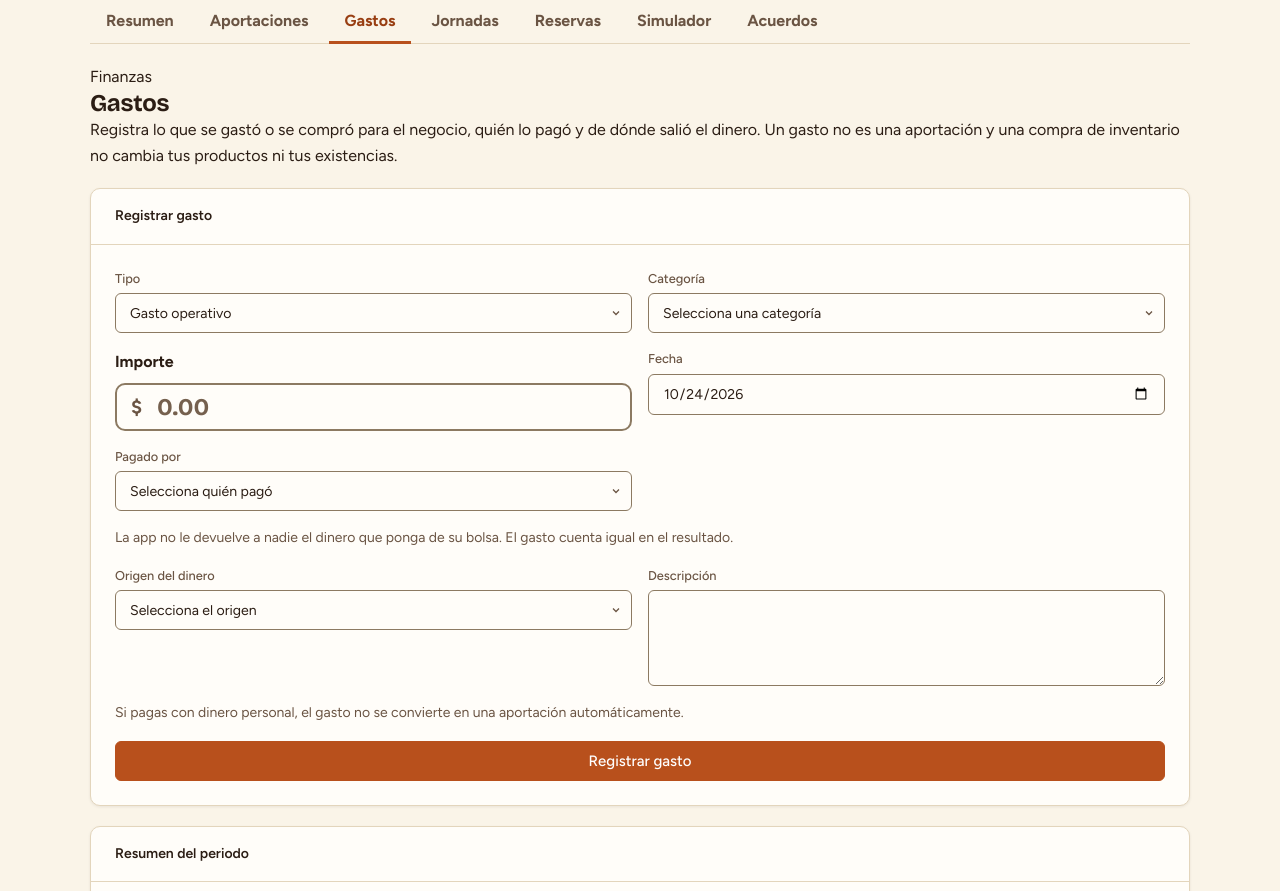
Test: expenses screen › does not save a missing category and says what is wrong
Select "Transporte" in the dropdown with id "expense-category" at (906,313), box [648,293,1165,333]
Type "450.50" into the field with id "expense-amount" at (374,407), box [115,383,632,431]
Type "2026-10-01" into the date field with id "expense-date" at (906,394), box [648,374,1165,415]
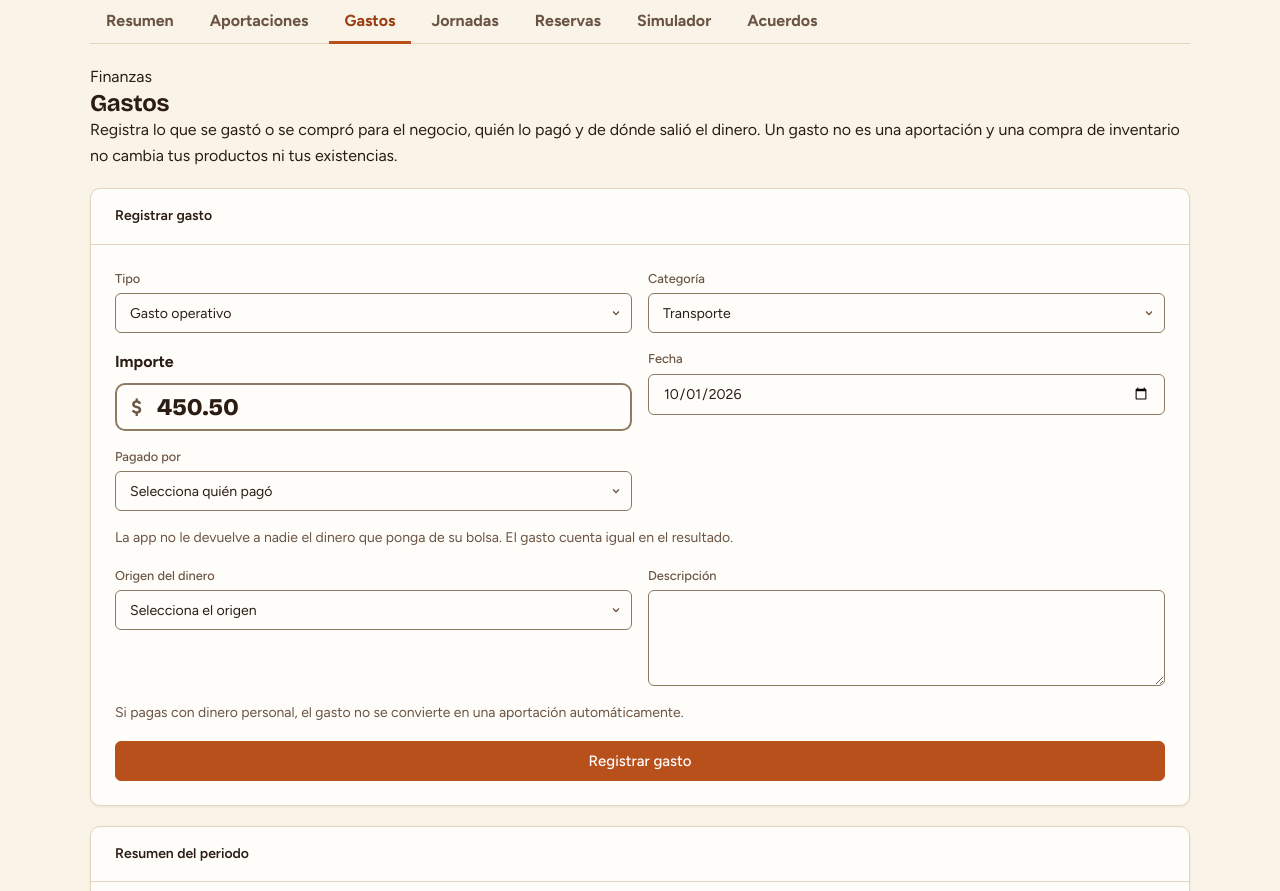
Select "Ana" in the dropdown with id "expense-payer" at (374,491), box [115,471,632,511]
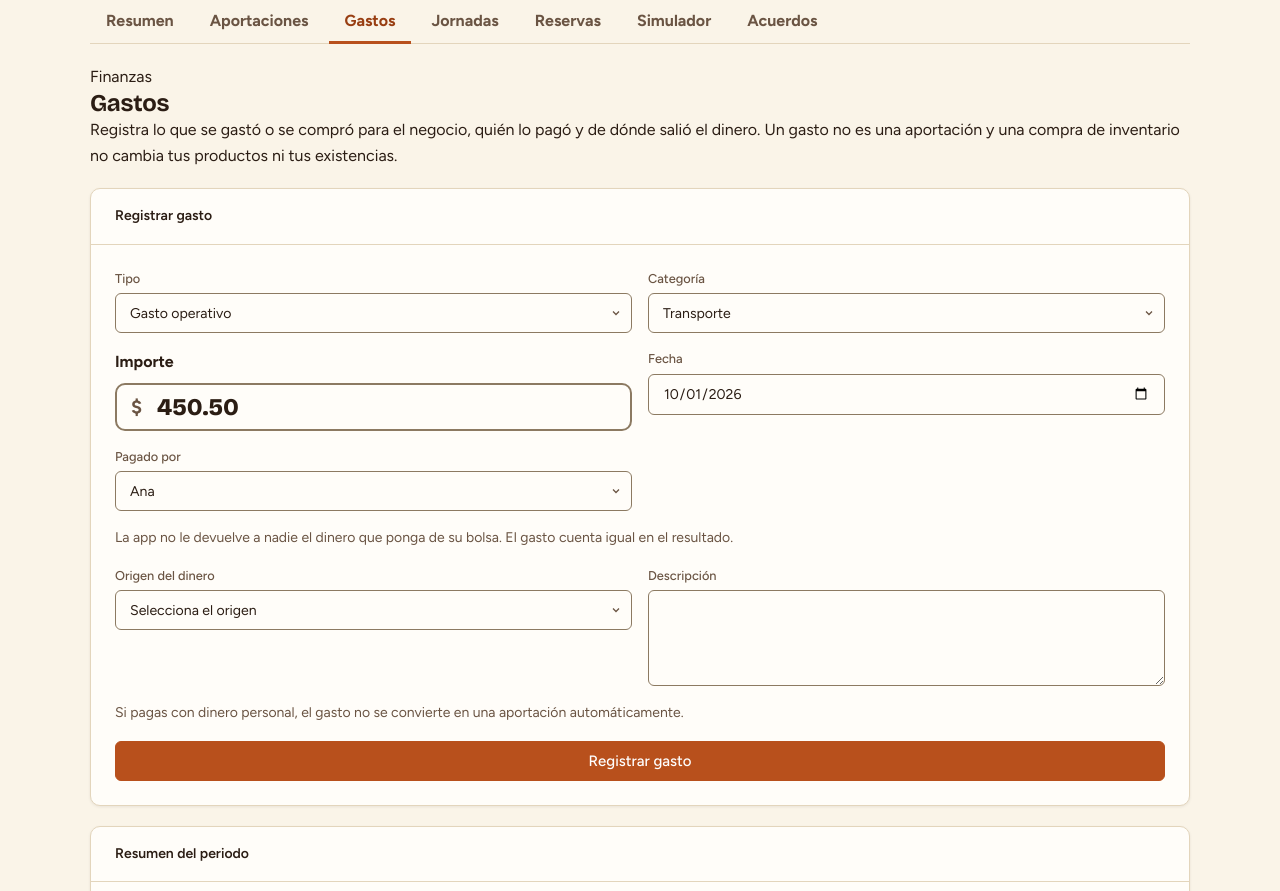
Select "Personal" in the dropdown with id "expense-funds" at (374,610), box [115,590,632,630]
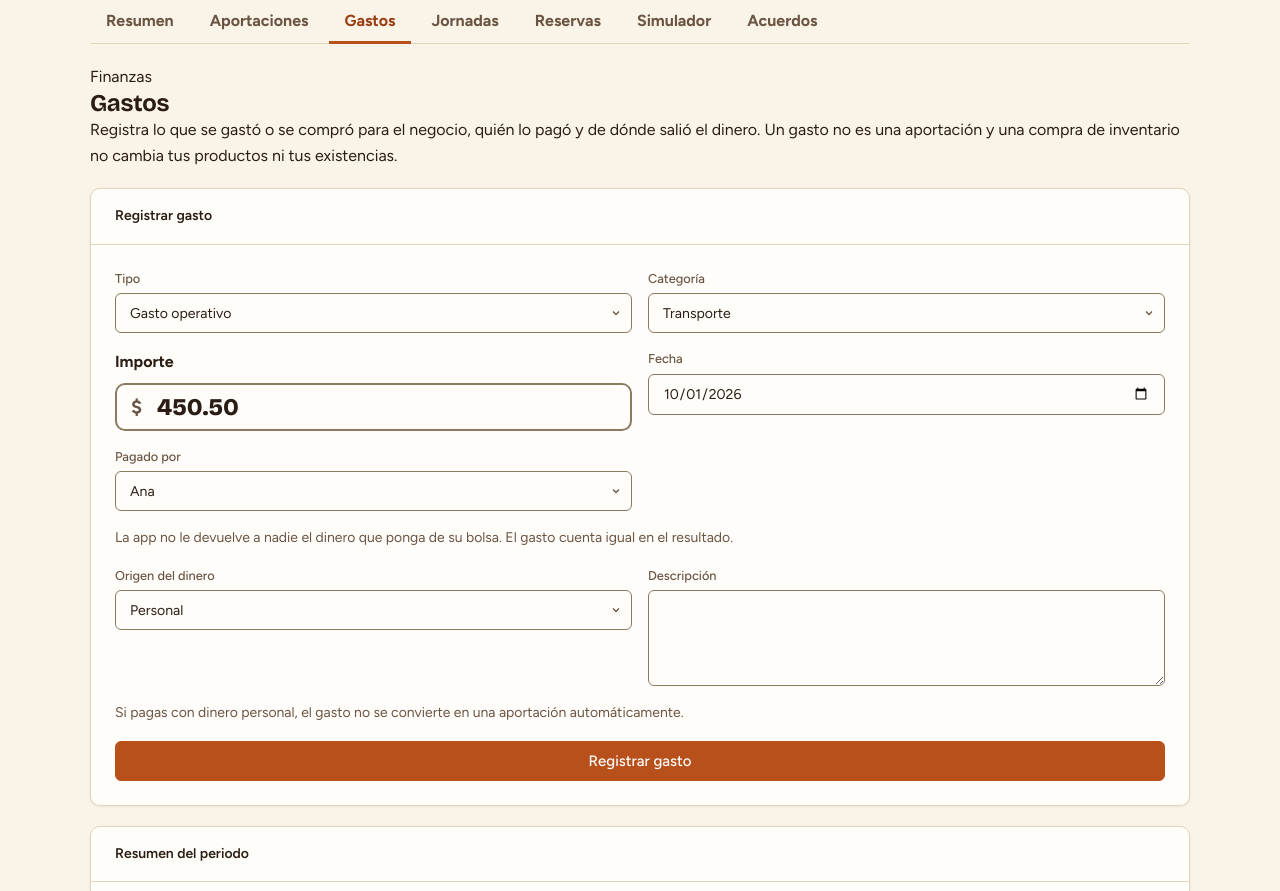
Type "  Flete del bazar  " into the text box with id "expense-description" at (906,638), box [648,590,1165,686]
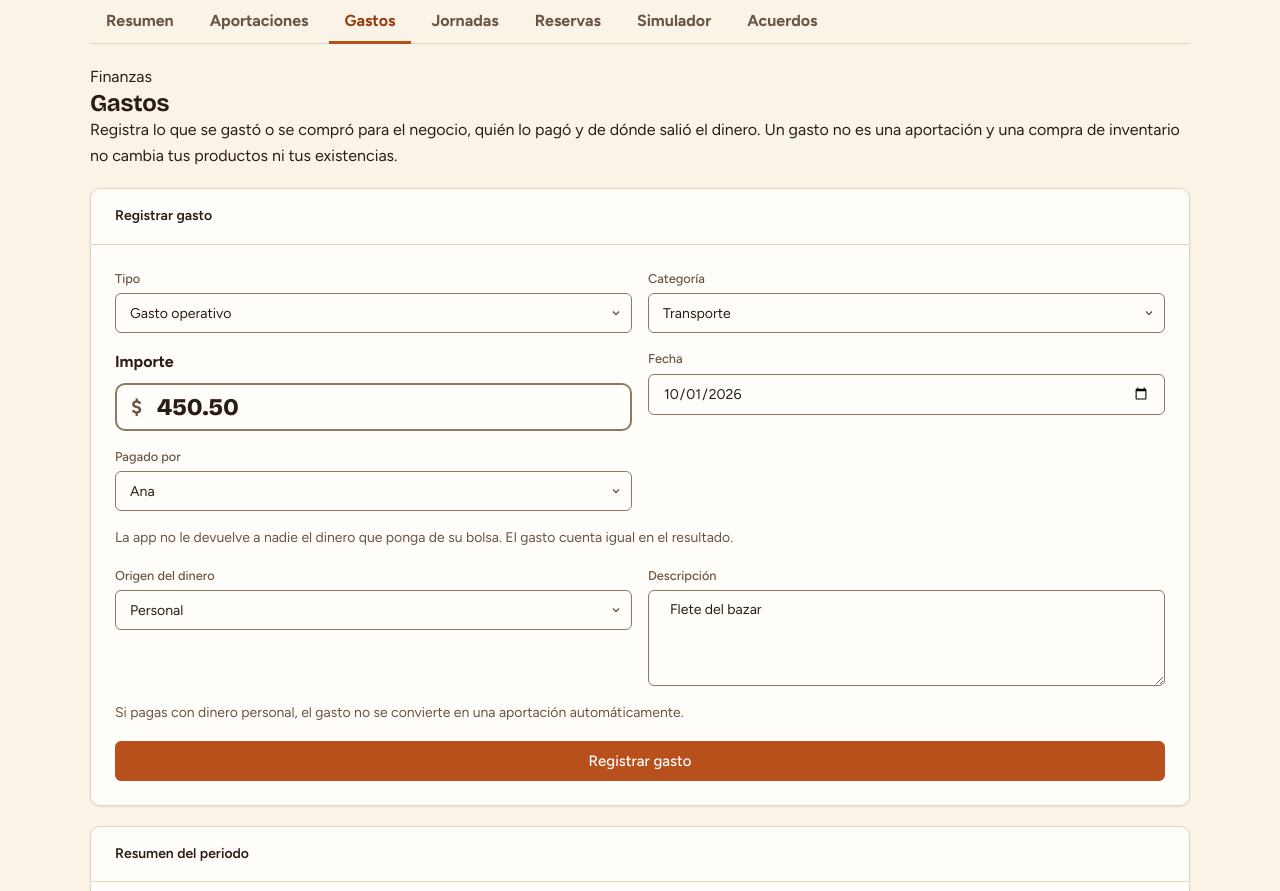
Select "Selecciona una categoría" in the dropdown with id "expense-category" at (906,313), box [648,293,1165,333]
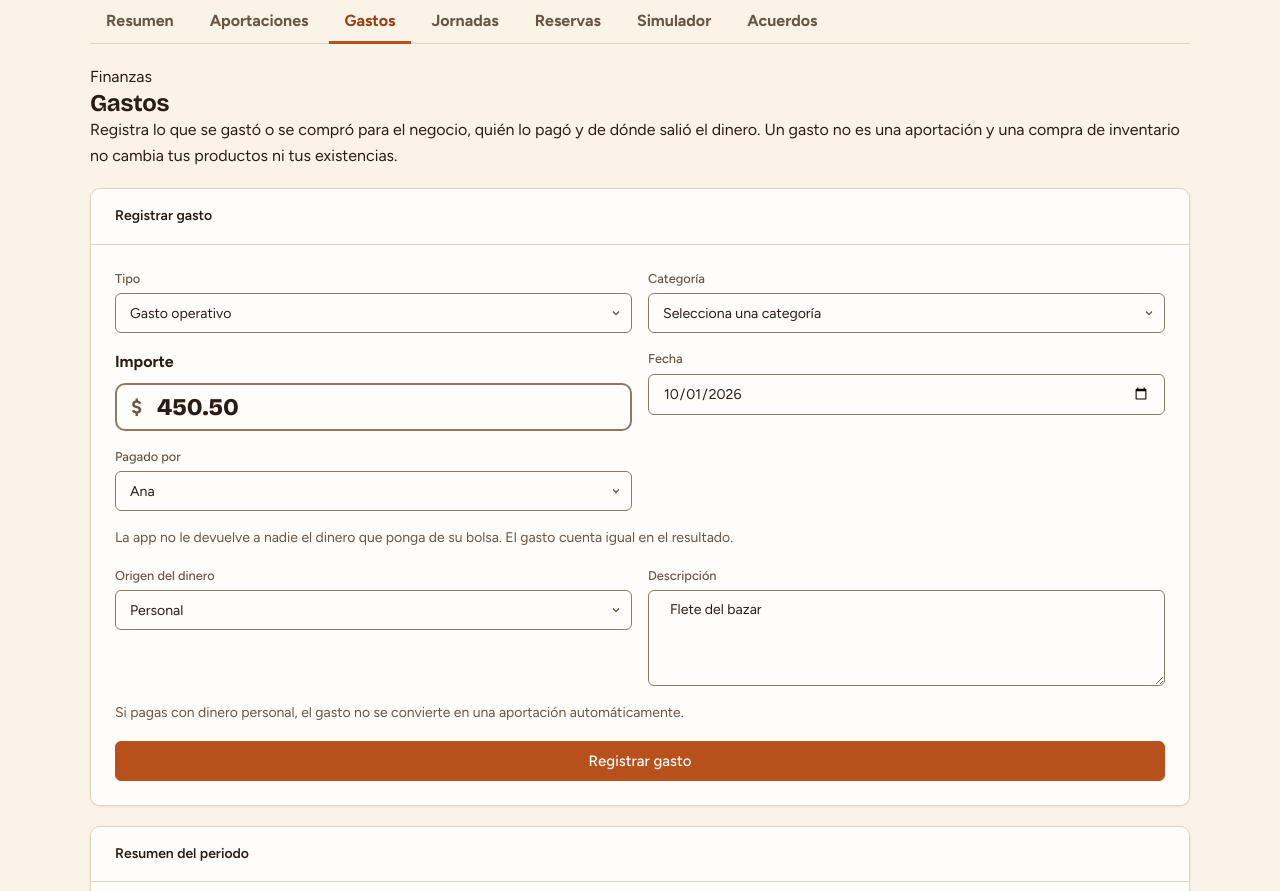
Submit the form with test id "create-form", box [115,269,1165,781]
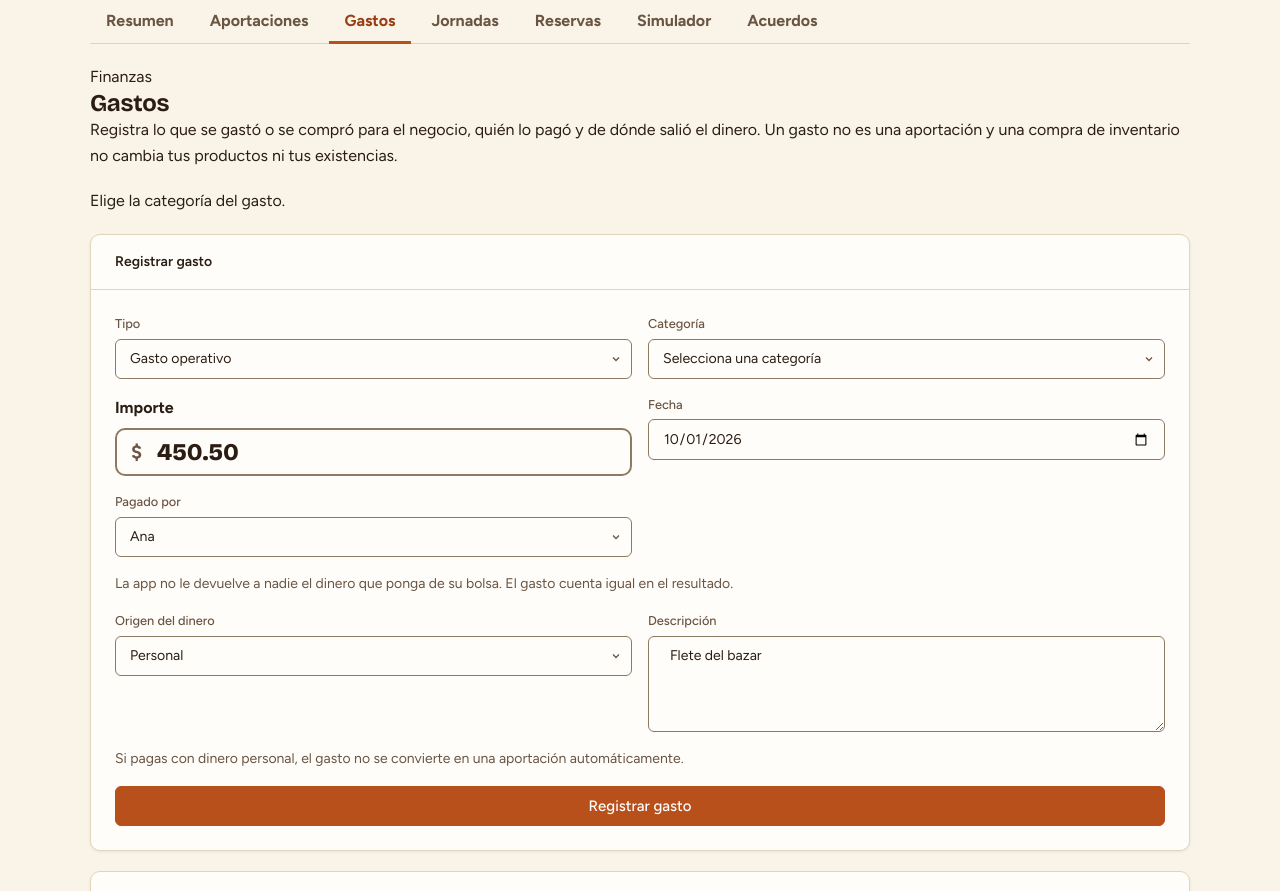
Result: the message "Elige la categoría del gasto." is shown at [90,191,285,210]
